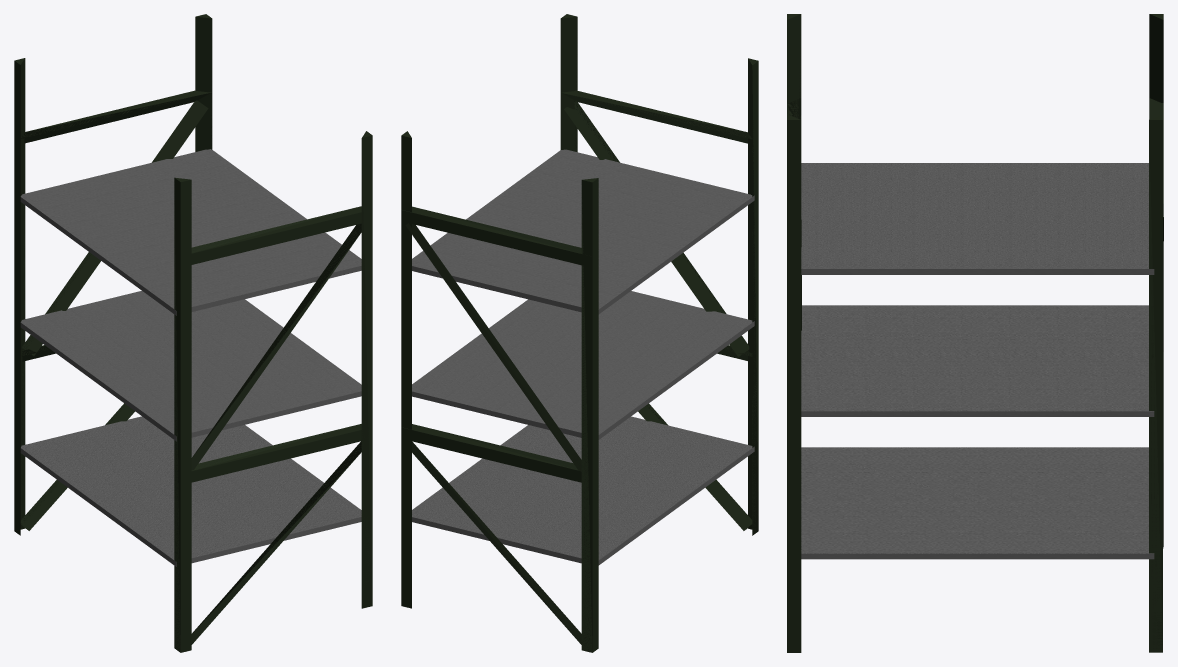
The model's file is 3=strl3.glb.
3 renders of one model, left to right at view 1: azimuth 30°, elevation 25°; view 2: azimuth 150°, elevation 25°; view 3: azimuth 270°, elevation 25°, orthographic. The views are drawn at different scales.
Parts seen in each view (by area): view 1: Куб.002, Куб.001, Куб, Cube.001, Cube.002, Cube.003, Cube.005, Cube.007, Cube.006, Cube.010, Cube.004, Cube.011 (+2 smaller); view 2: Куб.002, Куб.001, Куб, Cube.003, Cube.001, Cube.004, Cube.011, Cube.014, Cube.010, Cube.006, Cube.002, Cube.005 (+2 smaller); view 3: Куб, Куб.002, Куб.001, Cube.002, Cube.004, Cube.003, Cube.001.
Part boxes in pixels (x1,y1,x2,y2): Куб.002: (20, 149, 361, 315); Куб.001: (20, 291, 361, 441); Куб: (20, 416, 361, 566); Cube.001: (174, 177, 191, 652); Cube.002: (361, 131, 372, 608); Cube.003: (14, 58, 25, 535); Cube.005: (191, 206, 361, 264); Cube.007: (191, 424, 361, 482); Cube.006: (191, 223, 361, 470); Cube.010: (22, 100, 208, 355); Cube.004: (195, 14, 212, 151); Cube.011: (21, 90, 211, 143); Куб.002: (412, 149, 754, 314); Куб.001: (412, 291, 754, 439); Куб: (412, 416, 754, 565); Cube.003: (581, 178, 598, 652); Cube.001: (748, 58, 758, 535); Cube.004: (401, 131, 411, 608); Cube.011: (401, 206, 591, 267); Cube.014: (401, 424, 581, 482); Cube.010: (405, 223, 581, 470); Cube.006: (564, 100, 749, 356); Cube.002: (560, 14, 577, 152); Cube.005: (561, 90, 752, 143); Куб: (801, 447, 1154, 559); Куб.002: (801, 163, 1154, 274); Куб.001: (801, 305, 1154, 416); Cube.002: (787, 114, 801, 652); Cube.004: (1149, 114, 1162, 652); Cube.003: (1149, 14, 1163, 546); Cube.001: (787, 14, 801, 113).
Bounding box in the file's own units: 8 × 18.74 × 12.01.
11 materials, 1 textured.
